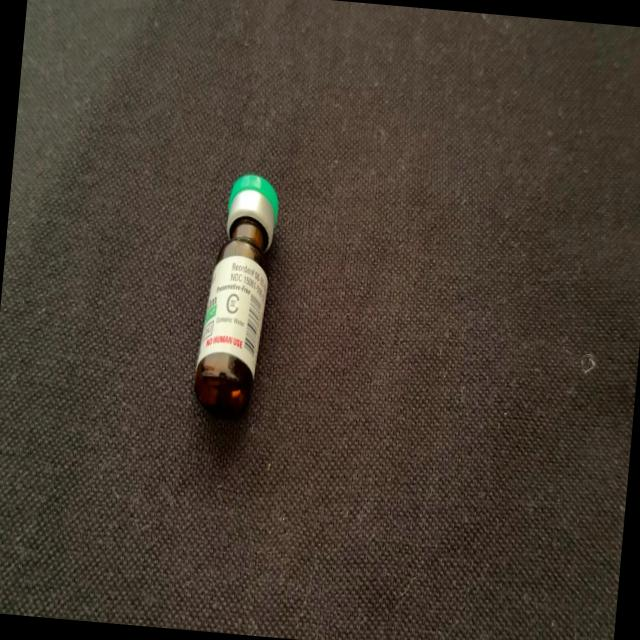midazolm: (193, 175, 279, 413)
